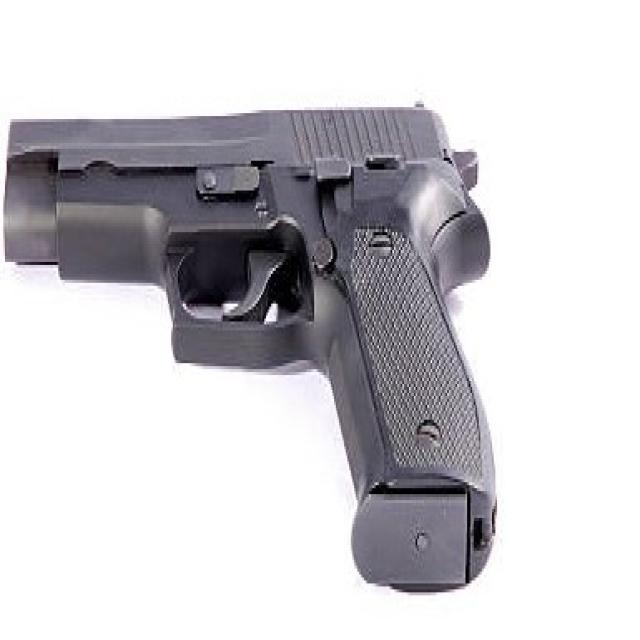pistol: (1, 99, 506, 595)
